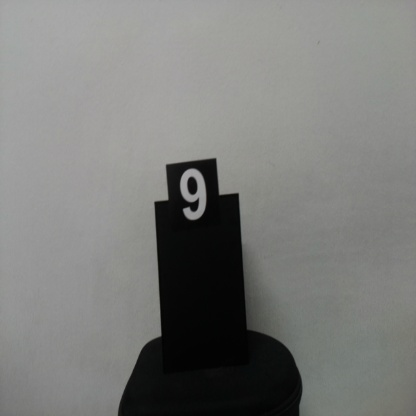id_9: (167, 167, 220, 238)
